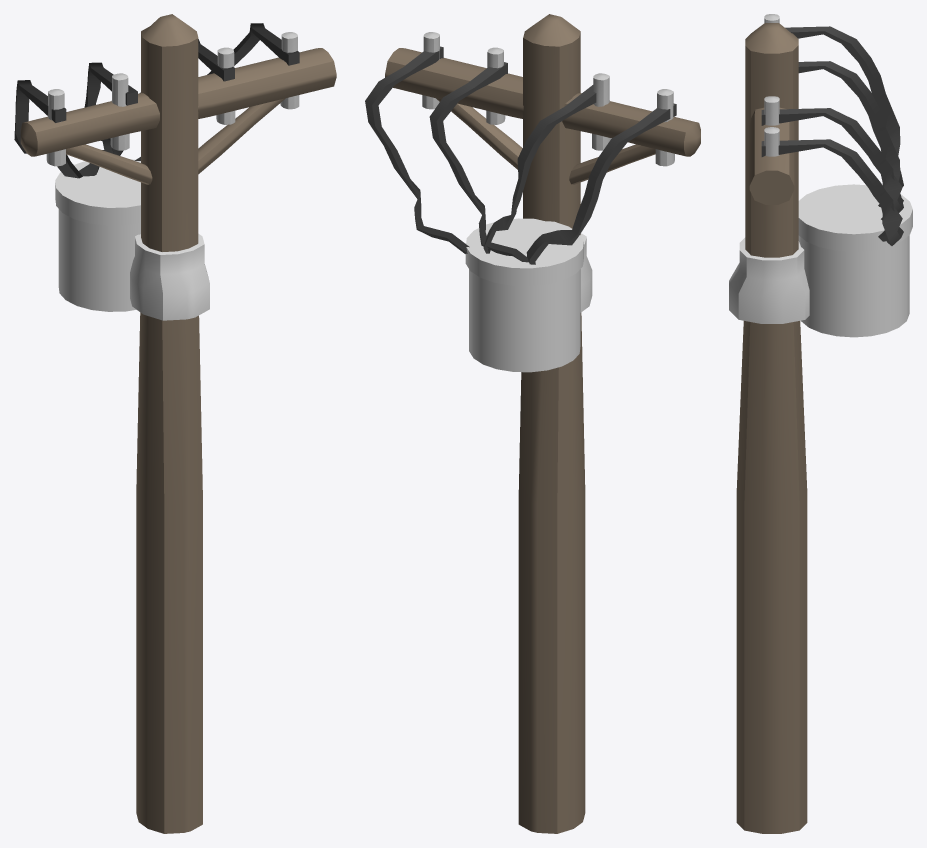
Rendered from poste y transformador 1.fbx.
The picture shows the model from 3 angles, left to right: view 1: azimuth 30°, elevation 25°; view 2: azimuth 150°, elevation 25°; view 3: azimuth 270°, elevation 25°; orthographic projection.
Parts seen in each view (by area): view 1: polySurface11, polySurface5, pCylinder1, polySurface14, pCylinder2, polySurface10, polySurface2, polySurface7, polySurface15, polySurface17, polySurface16, polySurface3 (+1 smaller); view 2: polySurface11, pCylinder1, polySurface5, pCylinder2, polySurface2, polySurface15, polySurface16, polySurface17, polySurface10, polySurface7, polySurface3, polySurface6 (+1 smaller); view 3: polySurface11, pCylinder1, pCylinder2, polySurface14, polySurface5, polySurface15, polySurface2, polySurface16, polySurface17, polySurface9, polySurface8.
Boxes of the visible parts, x1=… form: polySurface11: x1=136, y1=14, x2=202, y2=833; polySurface5: x1=20, y1=48, x2=336, y2=156; pCylinder1: x1=58, y1=209, x2=140, y2=311; polySurface14: x1=130, y1=233, x2=209, y2=320; pCylinder2: x1=55, y1=159, x2=140, y2=225; polySurface10: x1=198, y1=98, x2=285, y2=174; polySurface2: x1=14, y1=80, x2=82, y2=178; polySurface7: x1=66, y1=144, x2=152, y2=184; polySurface15: x1=134, y1=23, x2=299, y2=160; polySurface17: x1=84, y1=62, x2=137, y2=153; polySurface16: x1=79, y1=39, x2=234, y2=176; polySurface3: x1=110, y1=73, x2=129, y2=150; polySurface11: x1=518, y1=14, x2=585, y2=833; pCylinder1: x1=469, y1=269, x2=580, y2=372; polySurface5: x1=385, y1=48, x2=700, y2=156; pCylinder2: x1=465, y1=218, x2=583, y2=285; polySurface2: x1=526, y1=103, x2=676, y2=264; polySurface15: x1=365, y1=46, x2=469, y2=253; polySurface16: x1=429, y1=62, x2=528, y2=262; polySurface17: x1=483, y1=85, x2=596, y2=253; polySurface10: x1=436, y1=98, x2=522, y2=169; polySurface7: x1=569, y1=144, x2=655, y2=184; polySurface3: x1=592, y1=73, x2=610, y2=150; polySurface6: x1=655, y1=89, x2=674, y2=166; polySurface11: x1=736, y1=23, x2=807, y2=833; pCylinder1: x1=798, y1=235, x2=909, y2=337; pCylinder2: x1=798, y1=184, x2=912, y2=251; polySurface14: x1=729, y1=237, x2=809, y2=323; polySurface5: x1=749, y1=107, x2=794, y2=204; polySurface15: x1=761, y1=139, x2=903, y2=245; polySurface2: x1=785, y1=26, x2=903, y2=186; polySurface16: x1=761, y1=108, x2=903, y2=210; polySurface17: x1=798, y1=61, x2=903, y2=219; polySurface9: x1=764, y1=96, x2=779, y2=125; polySurface8: x1=764, y1=127, x2=779, y2=156.
Bounding box in the file's own units: 1.97 × 4.98 × 1.04.
